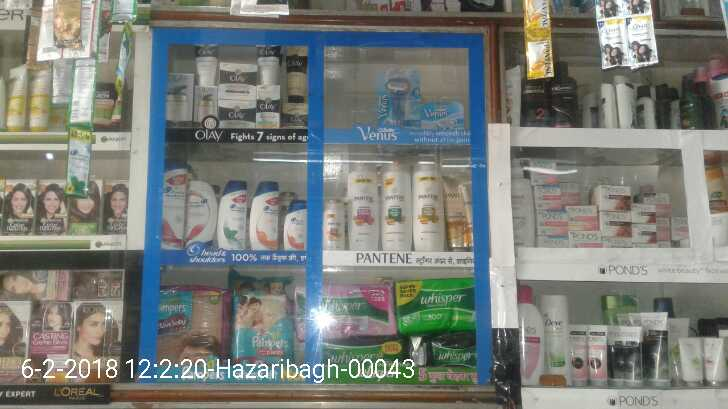venus: (379, 67, 423, 130), (423, 97, 466, 130)
